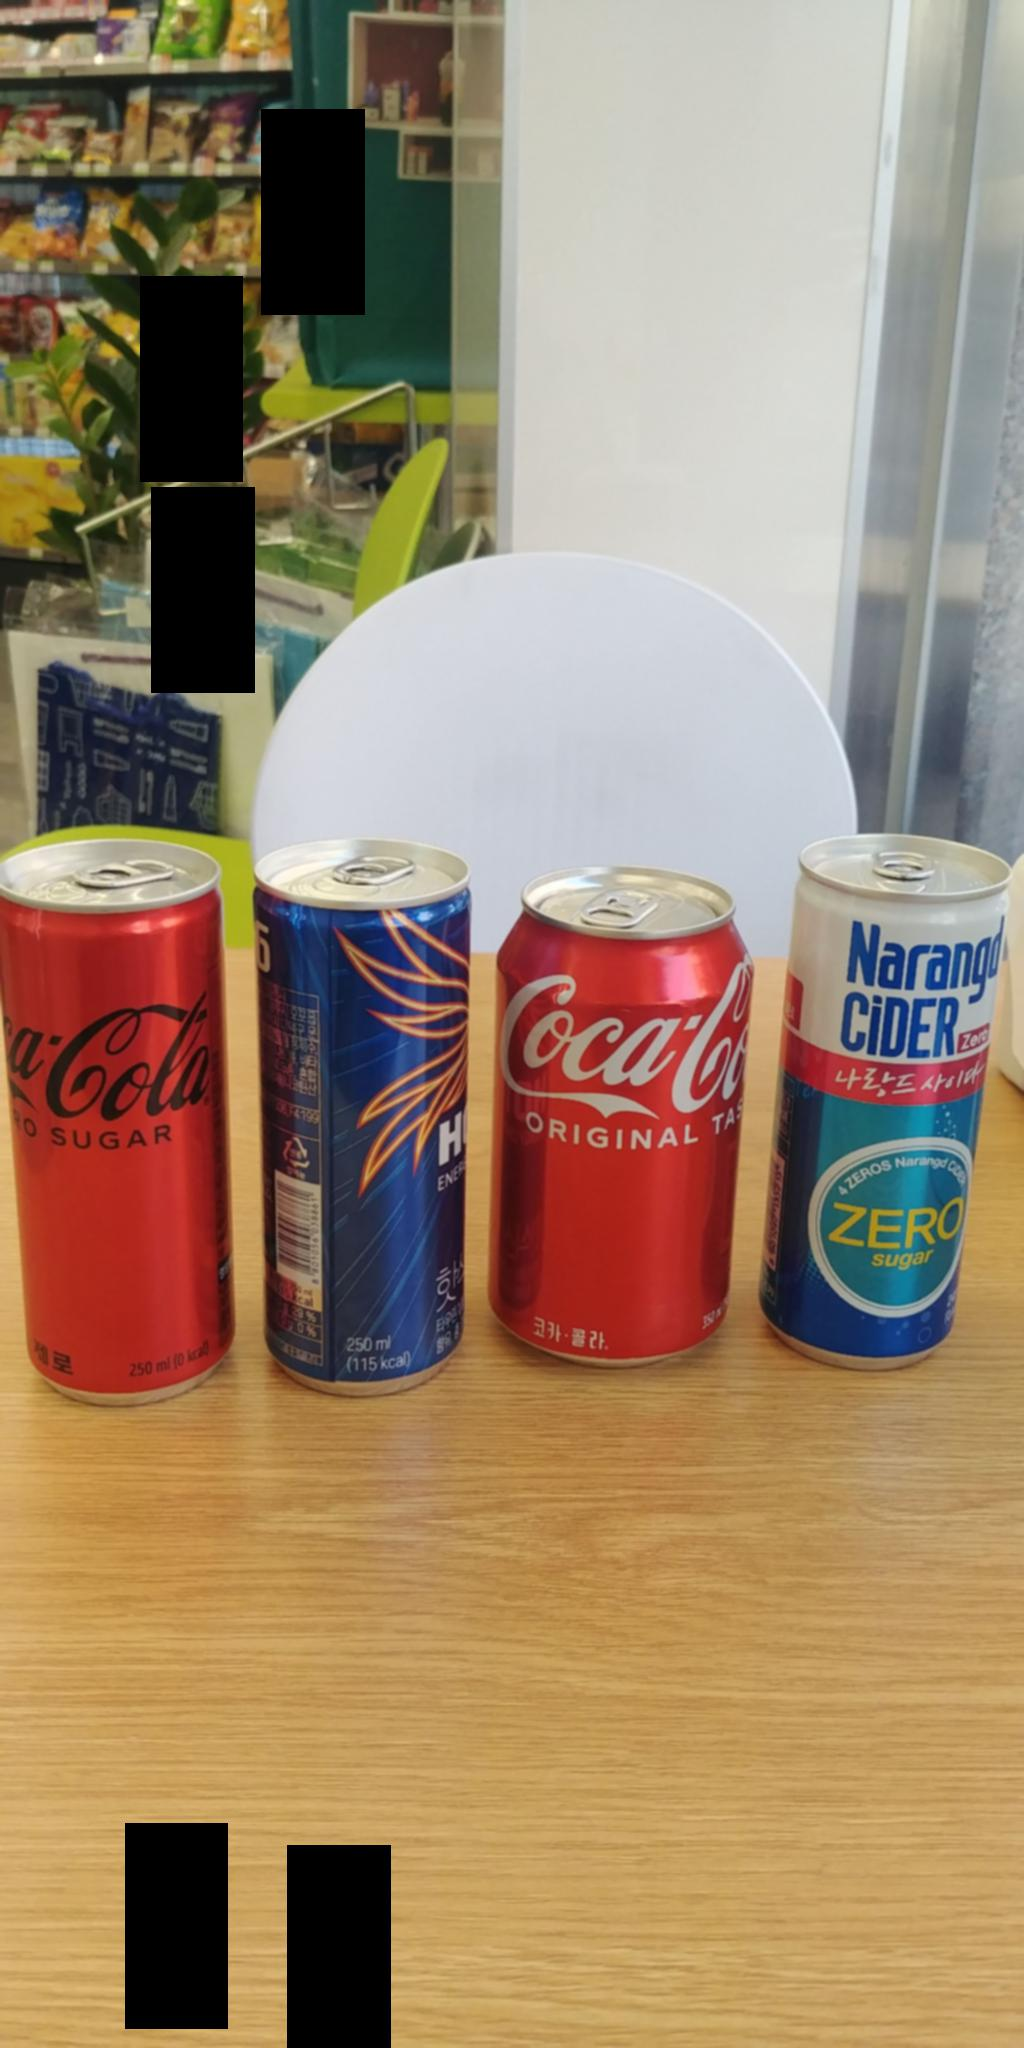cocacola: (504, 862, 742, 1387)
hotsix_org: (257, 832, 482, 1398)
narangdcider: (778, 822, 993, 1362)
